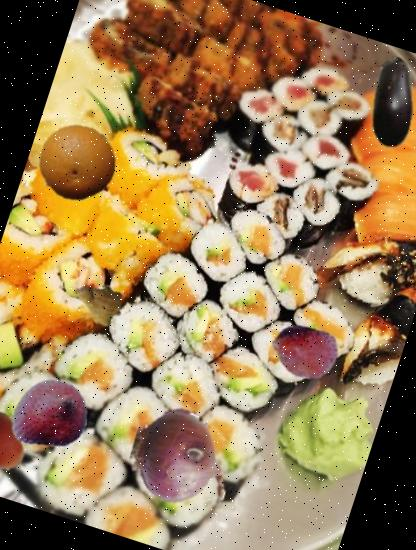Eggplant: (333, 42, 416, 162)
Ginger: (65, 272, 129, 336)
Nectarine: (0, 402, 40, 478)
Onion: (118, 392, 247, 522)
Orange: (27, 114, 127, 214)
Salak: (1, 365, 98, 461), (261, 310, 347, 395)
